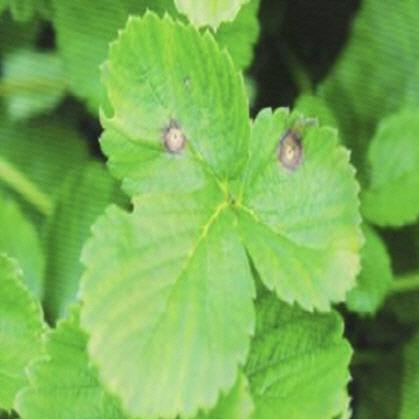Leaf Spot: (97, 8, 251, 201), (236, 104, 367, 314)
